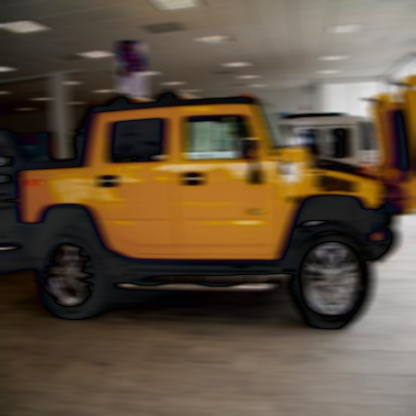Vehicle: (14, 77, 415, 333)
